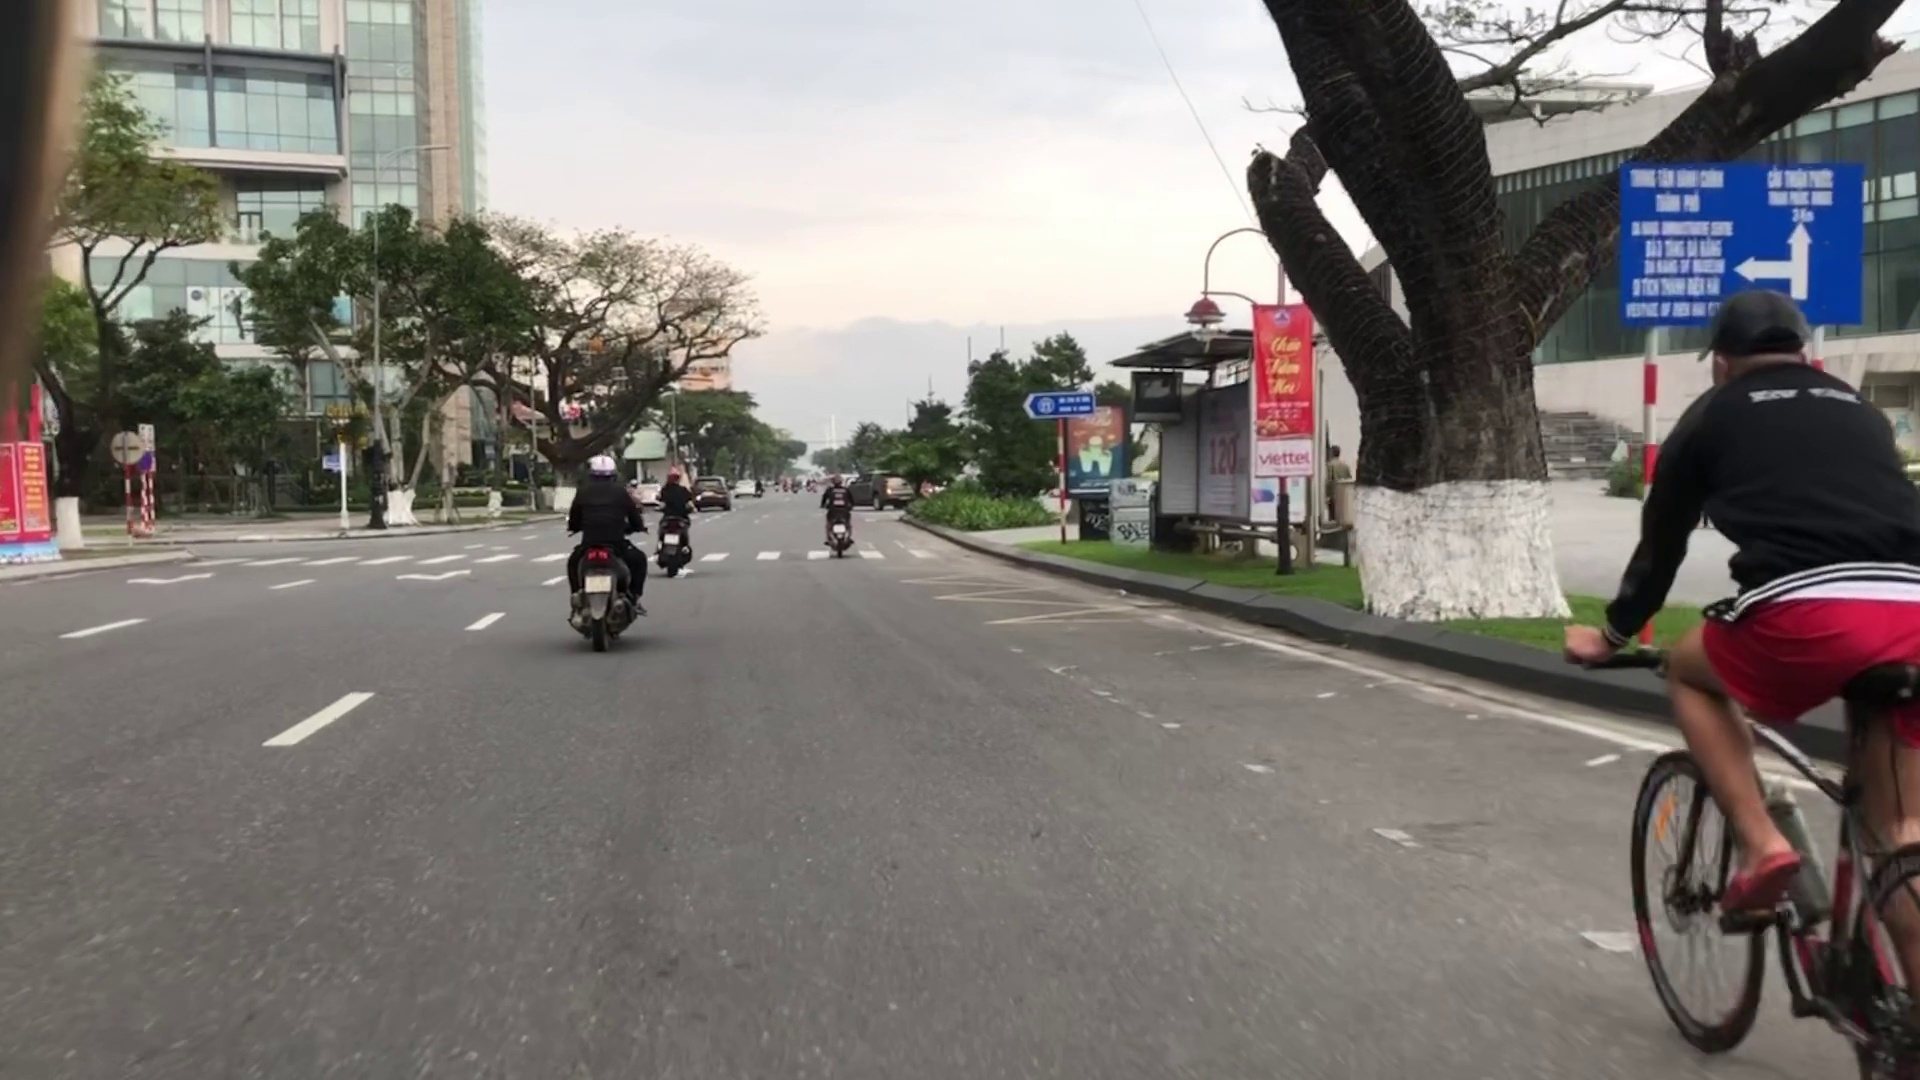Bien khac: (1611, 160, 1866, 331)
